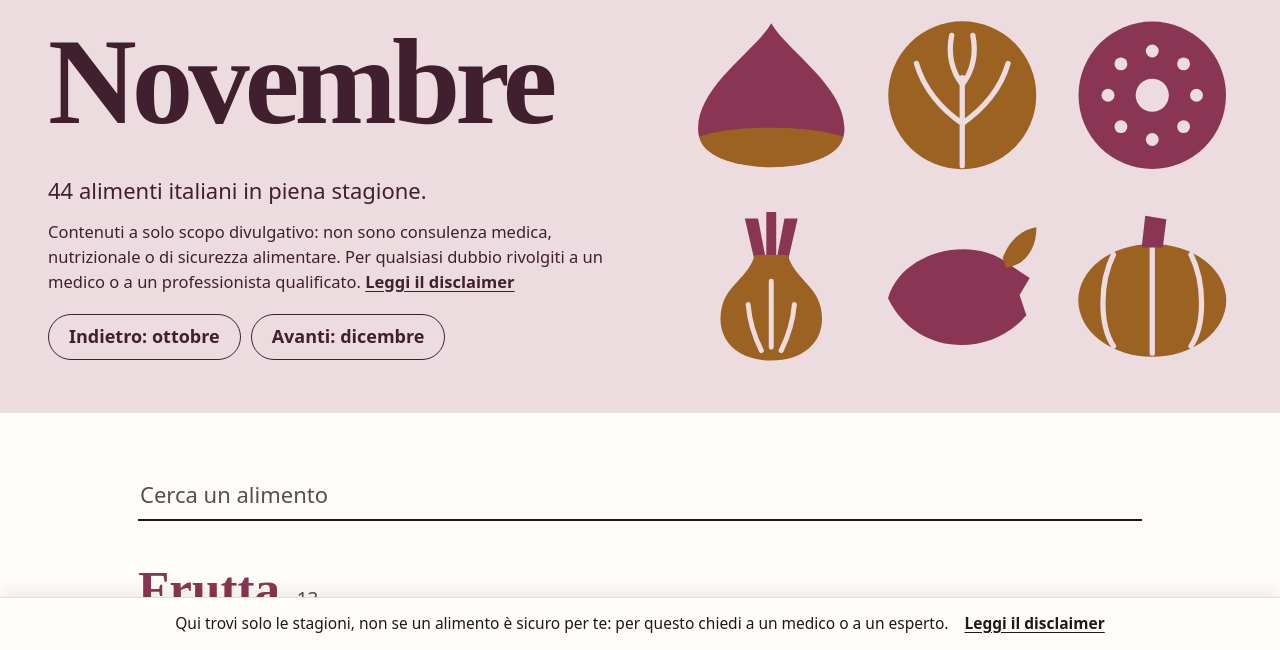
App › clears the search when the month changes
This screenshot has width=1280, height=650.
Type "zzz" into the search field at (640,495), box 138,469 -> 1142,521
(page scrolled)
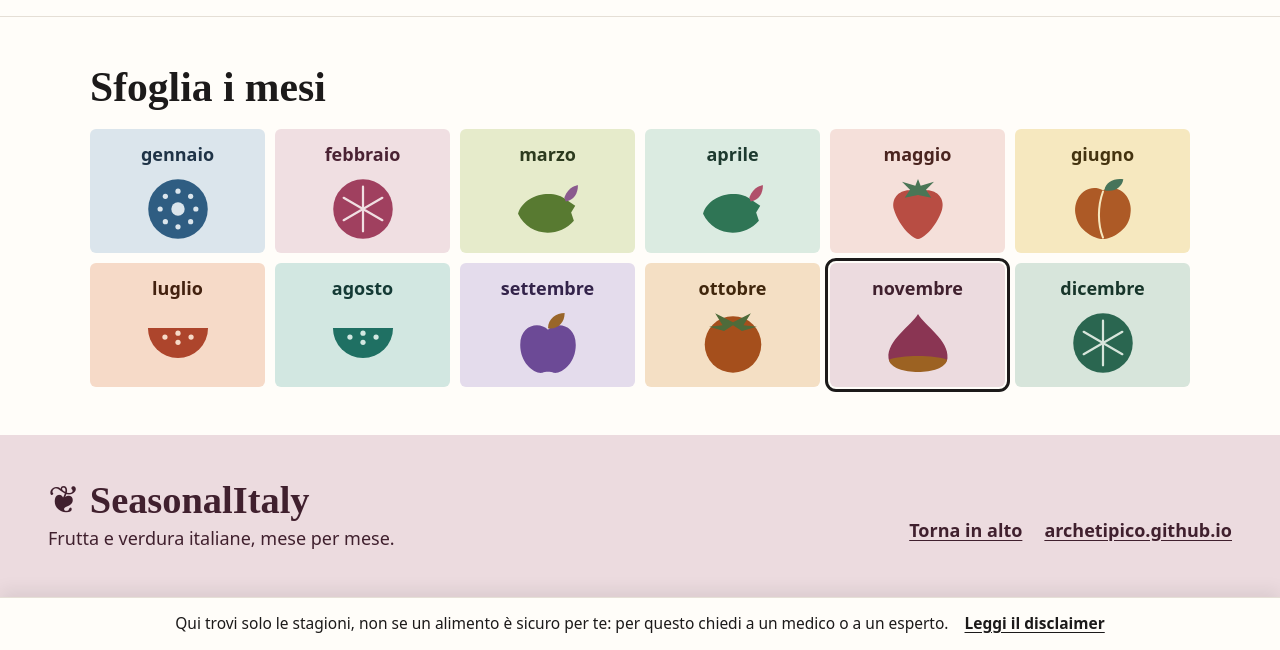
Click the button "luglio" at (178,325), box 90,263 -> 265,387
(page scrolled)
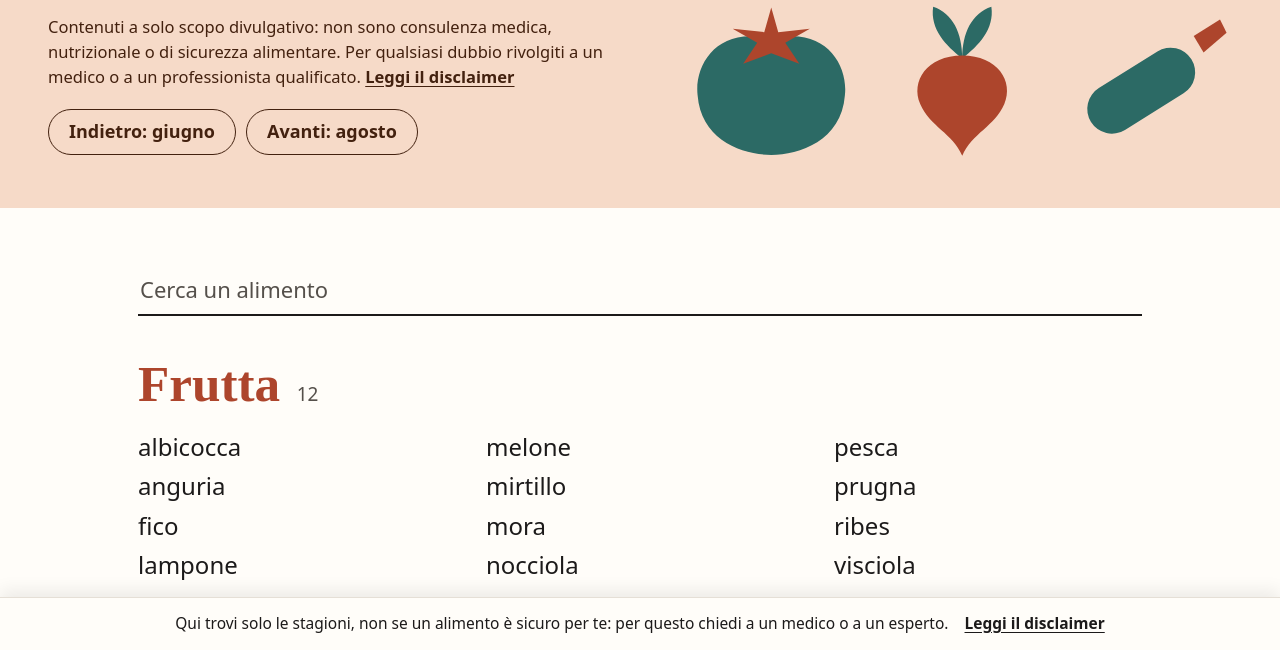
Expected: the search field is empty, 138,264 -> 1142,316
